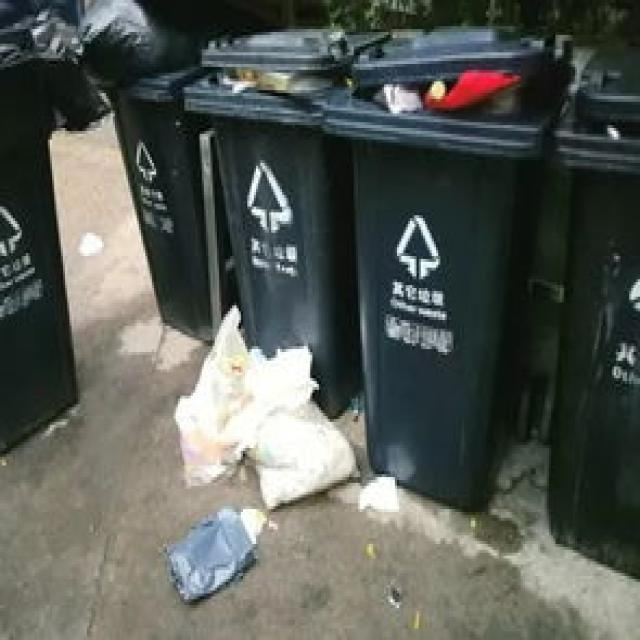garbage: (165, 303, 356, 599)
garbage_bin: (549, 44, 638, 576), (0, 26, 78, 451), (106, 64, 208, 337)
overflow: (323, 23, 573, 509), (182, 26, 384, 416)
